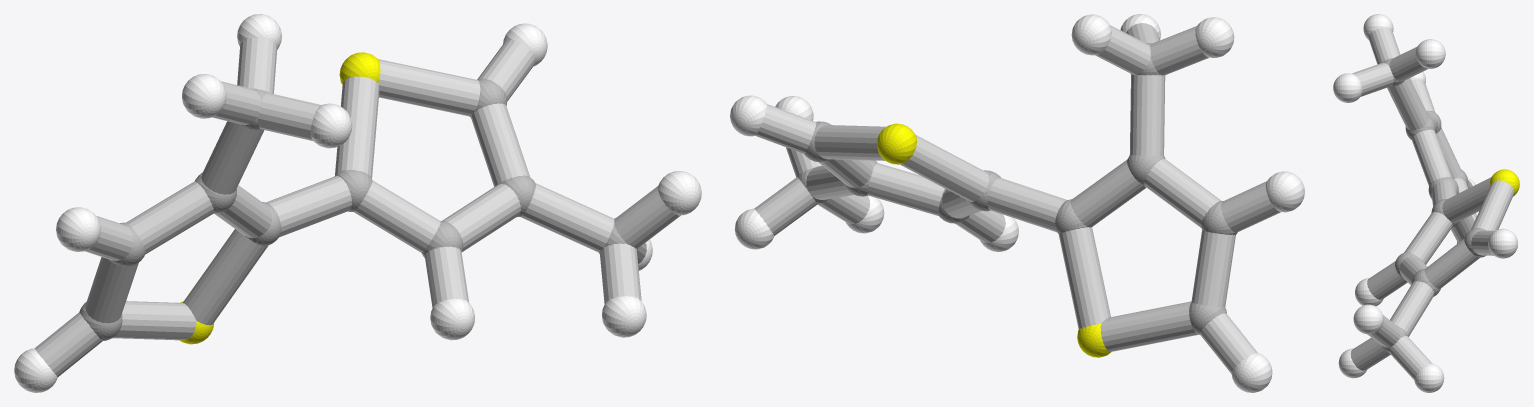
File: Methylthiophene_Phi_5_Theta_290_Methylthiophene.glb
3 views of the same model, side by side, from view 1: azimuth 30°, elevation 25°; view 2: azimuth 150°, elevation 25°; view 3: azimuth 270°, elevation 25° (orthographic). The views are drawn at different scales.
Parts seen in each view (by area): view 1: grp7965, grp3621, grp1, grp7241; view 2: grp7965, grp3621, grp1, grp7241; view 3: grp7965, grp3621, grp1, grp7241.
Part boxes in pixels (box(x1,y1,x2,y2)): grp7965: box(34, 37, 680, 376); grp3621: box(14, 14, 701, 392); grp1: box(79, 78, 637, 340); grp7241: box(179, 52, 380, 344); grp7965: box(754, 23, 1280, 373); grp3621: box(730, 14, 1304, 392); grp1: box(798, 43, 1237, 334); grp7241: box(877, 123, 1110, 357); grp7965: box(1350, 27, 1514, 379); grp3621: box(1333, 14, 1517, 392); grp1: box(1381, 58, 1486, 352); grp7241: box(1457, 169, 1519, 243).
Bounding box in the file's own units: 9.42 × 5.19 × 3.72.
